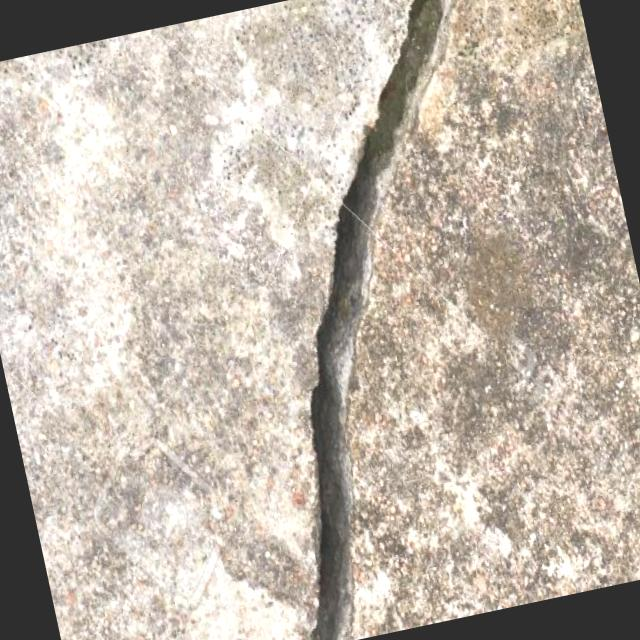crack: (176, 0, 584, 640)
